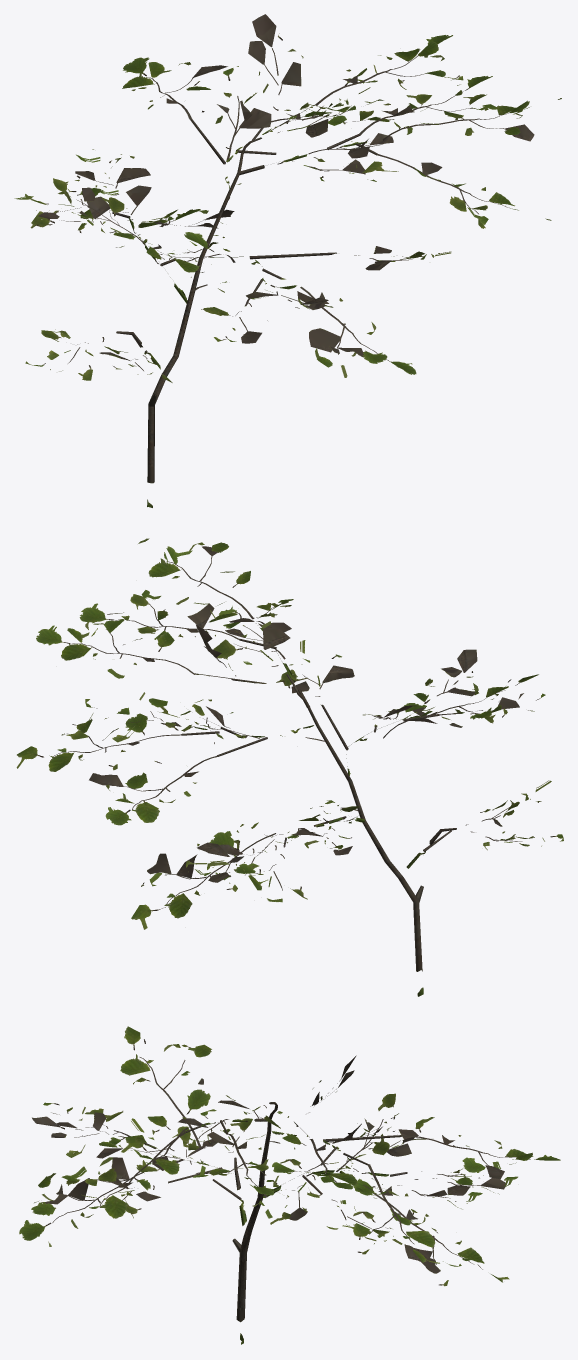
The model's file is SM_BlackAlder_Sapling_04_PP_LOD2.gltf.
3 views of the same model, one above another, from view 1: azimuth 30°, elevation 25°; view 2: azimuth 150°, elevation 25°; view 3: azimuth 270°, elevation 25° (orthographic). The views are drawn at different scales.
Visible parts, largest first — view 1: SM_BlackAlder_Sapling_04_PP; view 2: SM_BlackAlder_Sapling_04_PP; view 3: SM_BlackAlder_Sapling_04_PP.
Boxes of the visible parts, x1,y1,x2,y2 form: SM_BlackAlder_Sapling_04_PP: [14, 14, 561, 507]; SM_BlackAlder_Sapling_04_PP: [16, 538, 563, 996]; SM_BlackAlder_Sapling_04_PP: [19, 1026, 560, 1344].
Bounding box in the file's own units: 2.12 × 1.64 × 2.22.
Materials: 1 (1 with a texture image).
